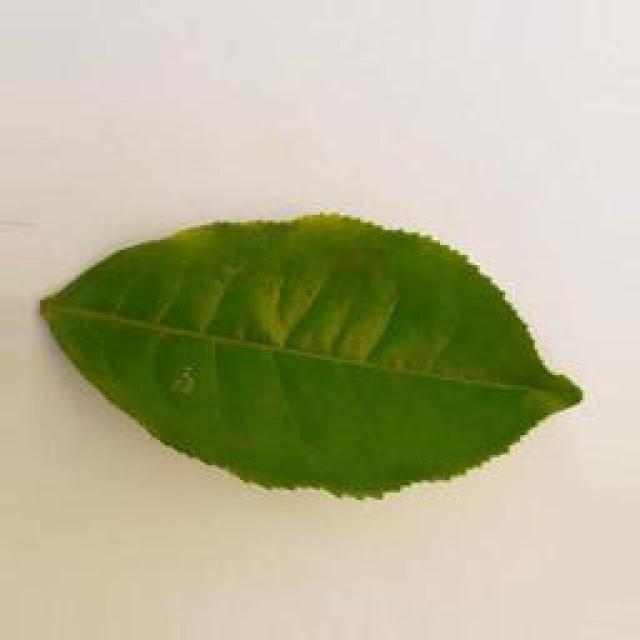Healthy: (33, 208, 591, 502)
